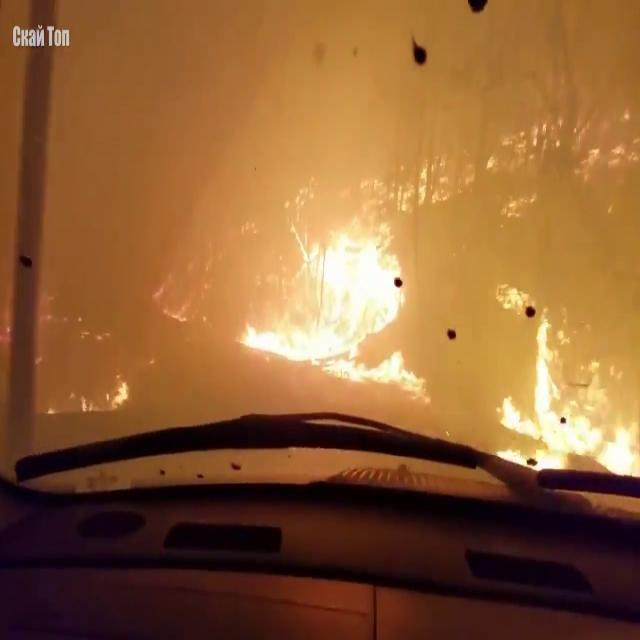Fire: (218, 202, 432, 396), (493, 309, 640, 474)
